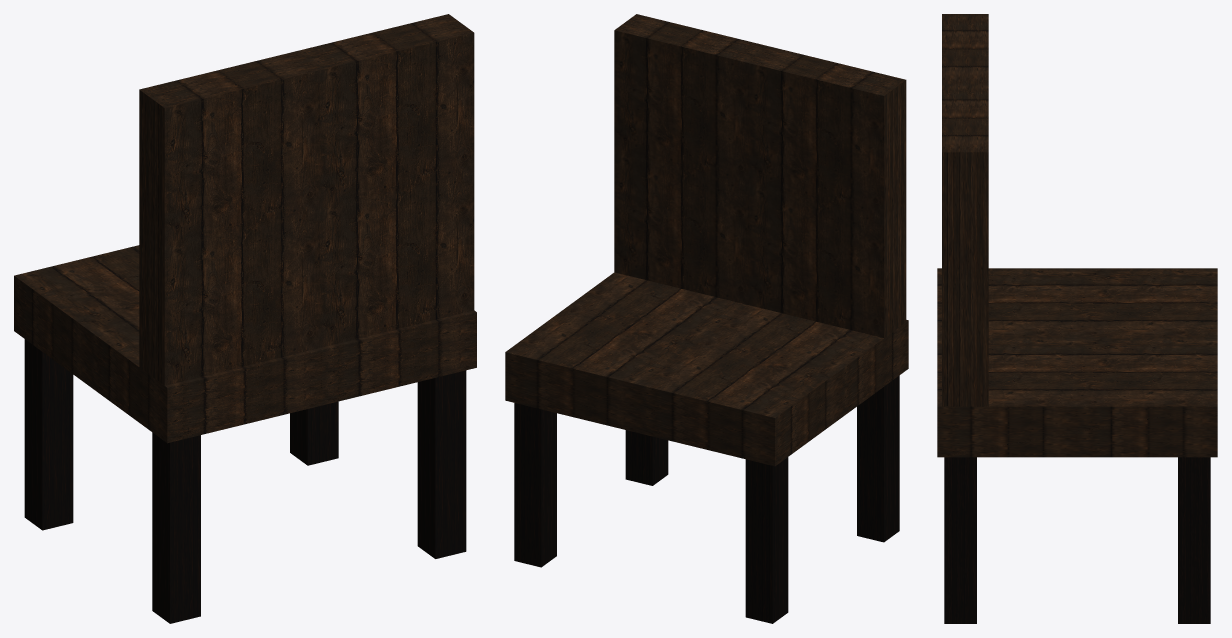
3 renders of one model, left to right at view 1: azimuth 30°, elevation 25°; view 2: azimuth 150°, elevation 25°; view 3: azimuth 270°, elevation 25°, orthographic. The views are drawn at different scales.
Parts seen in each view (by area): view 1: fixture-A-chair; view 2: fixture-A-chair; view 3: fixture-A-chair.
Boxes of the visible parts, x1,y1,x2,y2 form: fixture-A-chair: (14, 14, 476, 623); fixture-A-chair: (505, 14, 908, 623); fixture-A-chair: (937, 14, 1217, 623).
Bounding box in the file's own units: 0.7 × 1.12 × 0.6.
2 materials, 2 textured.
